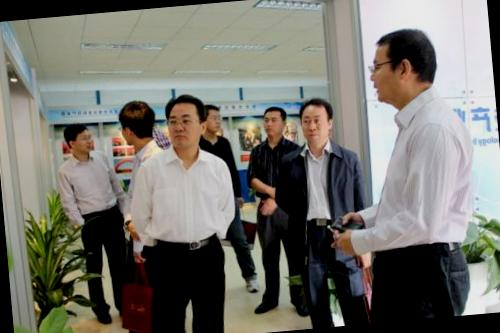no_helmet: (365, 21, 444, 110), (161, 88, 209, 154), (294, 92, 338, 150), (116, 96, 158, 150), (258, 102, 289, 142), (64, 119, 94, 158), (201, 101, 226, 140)
